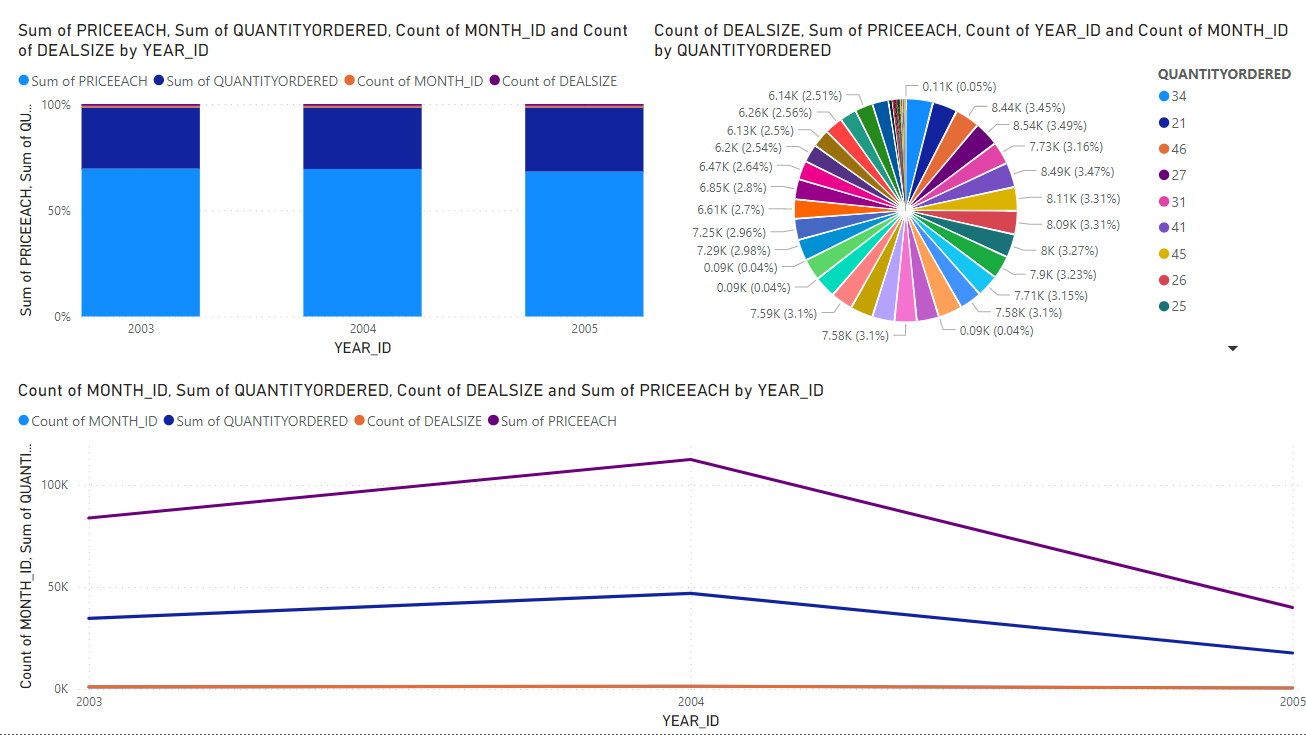

This screenshot's page, from the dashboard's own definition file:
{"tool":"powerbi","page":{"name":"Page 1","canvas":[1280,720],"ordinal":0},"visuals":[{"type":"hundredPercentStackedColumnChart","fields":{"Category":["sales_data.YEAR_ID"],"Y":["Sum(sales_data.PRICEEACH)","Sum(sales_data.QUANTITYORDERED)","CountNonNull(sales_data.MONTH_ID)","CountNonNull(sales_data.DEALSIZE)"]},"box":[26.5,30.2,613.9,330.5],"z":0},{"type":"pieChart","fields":{"Category":["sales_data.QUANTITYORDERED"],"Y":["CountNonNull(sales_data.DEALSIZE)","Sum(sales_data.PRICEEACH)","CountNonNull(sales_data.YEAR_ID)","CountNonNull(sales_data.MONTH_ID)"]},"box":[640.4,30.2,639.2,330.5],"z":1000},{"type":"lineChart","fields":{"Category":["sales_data.YEAR_ID"],"Y":["CountNonNull(sales_data.MONTH_ID)","Sum(sales_data.QUANTITYORDERED)","CountNonNull(sales_data.DEALSIZE)","Sum(sales_data.PRICEEACH)"]},"box":[26.5,377.5,1253.1,342.5],"z":2000}]}

Visuals, with their boxes in screenshot pixels (x1, y1, x2, y2), scaled from the page's 1280x720 canvas onto the 1306x735 screenshot:
hundredPercentStackedColumnChart - sales_data.YEAR_ID x Sum(sales_data.PRICEEACH): [left=27, top=31, right=653, bottom=368]
pieChart - sales_data.QUANTITYORDERED x CountNonNull(sales_data.DEALSIZE): [left=653, top=31, right=1305, bottom=368]
lineChart - sales_data.YEAR_ID x CountNonNull(sales_data.MONTH_ID): [left=27, top=385, right=1305, bottom=734]
